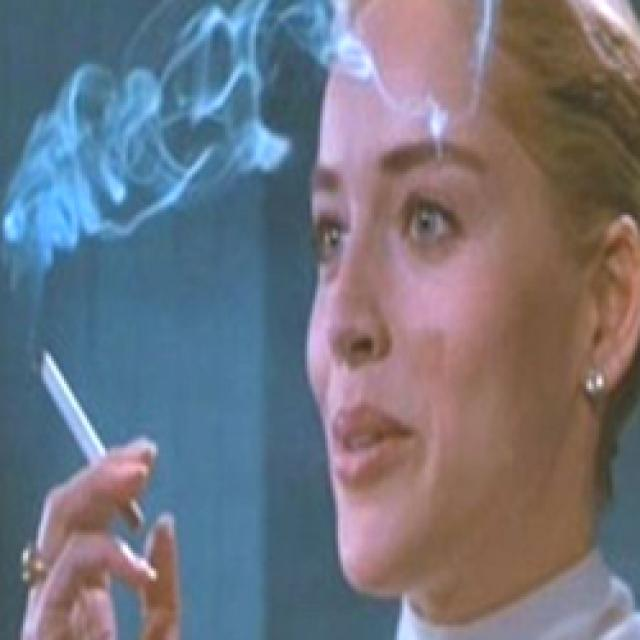Smooking: (33, 336, 120, 459)
